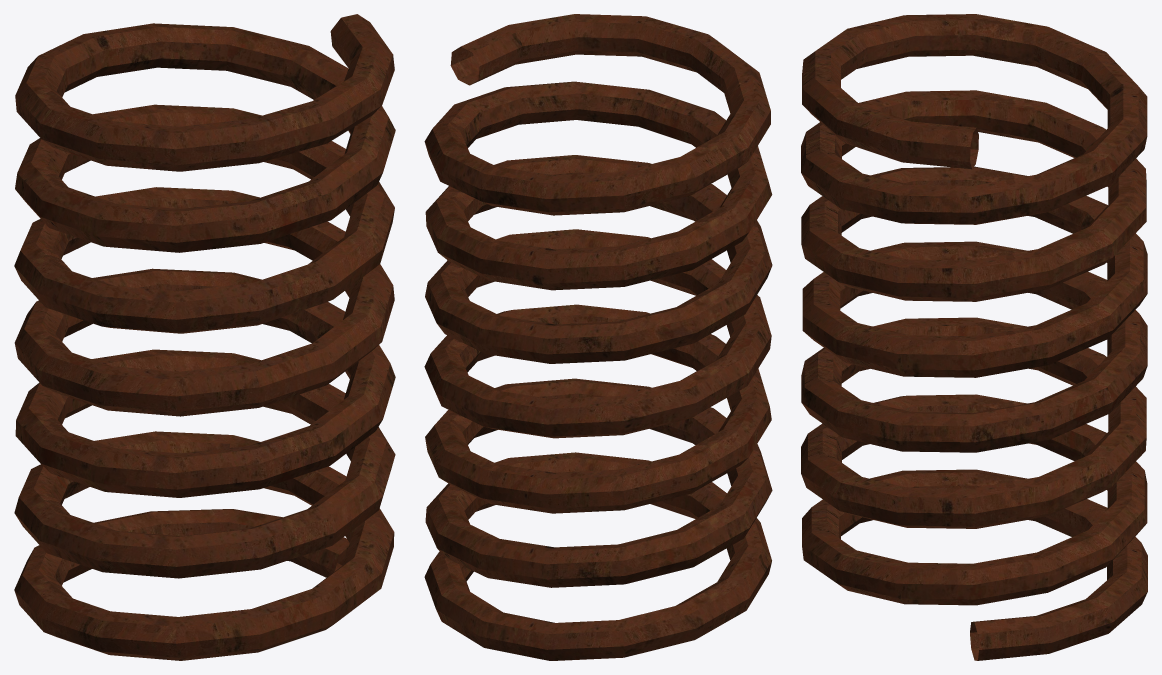
File: spring_1.glb
3 views of the same model, side by side, from view 1: azimuth 30°, elevation 25°; view 2: azimuth 150°, elevation 25°; view 3: azimuth 270°, elevation 25° (orthographic). The views are drawn at different scales.
Parts seen in each view (by area): view 1: spring_1; view 2: spring_1; view 3: spring_1.
Part boxes in pixels (x1=…): spring_1: x1=14, y1=14, x2=395, y2=660; spring_1: x1=424, y1=14, x2=772, y2=660; spring_1: x1=801, y1=14, x2=1147, y2=660.
Bounding box in the file's own units: 0.068 × 0.1118 × 0.0663.
1 material, 1 textured.
